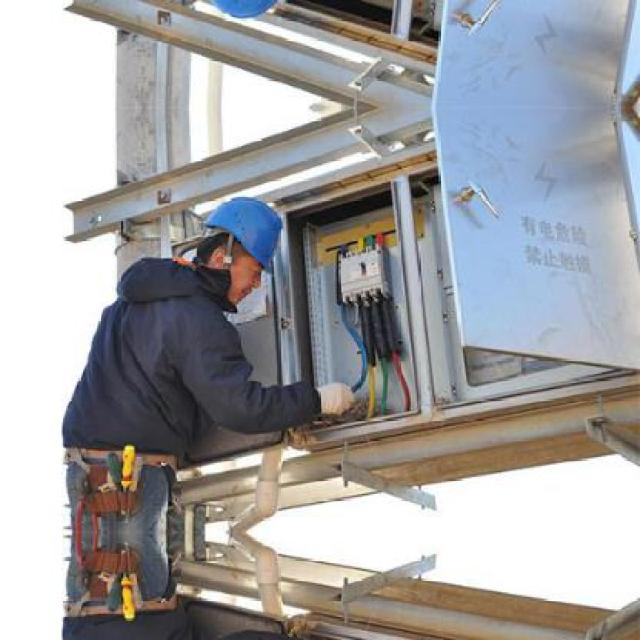helmet: (195, 188, 291, 292), (195, 0, 292, 26)
